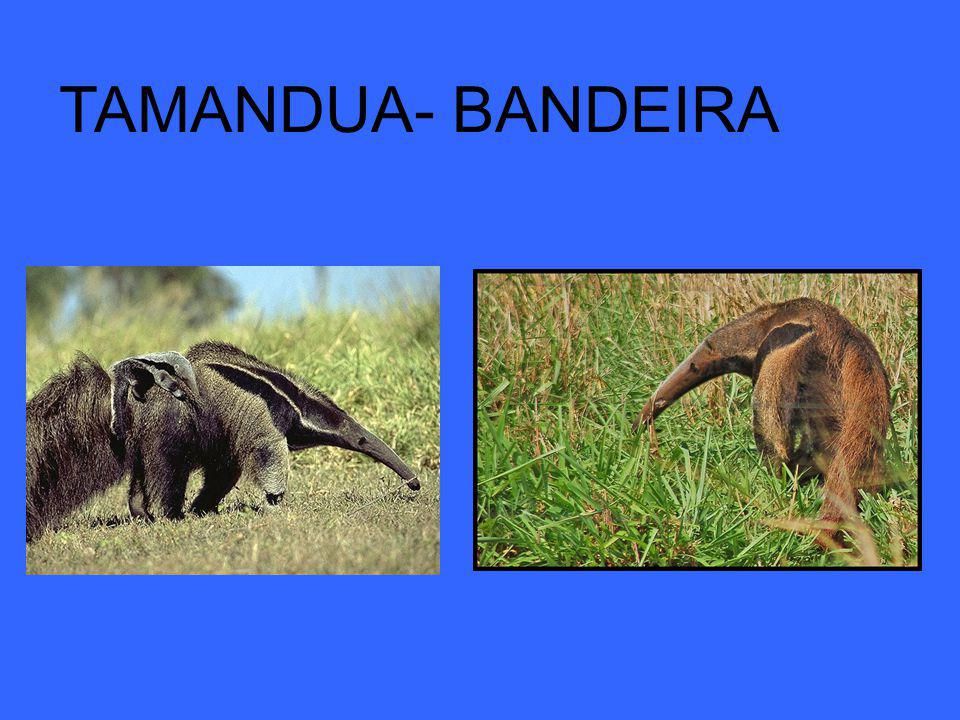TamanduaBandeira: (37, 341, 425, 542), (633, 291, 896, 556), (99, 354, 203, 427)
